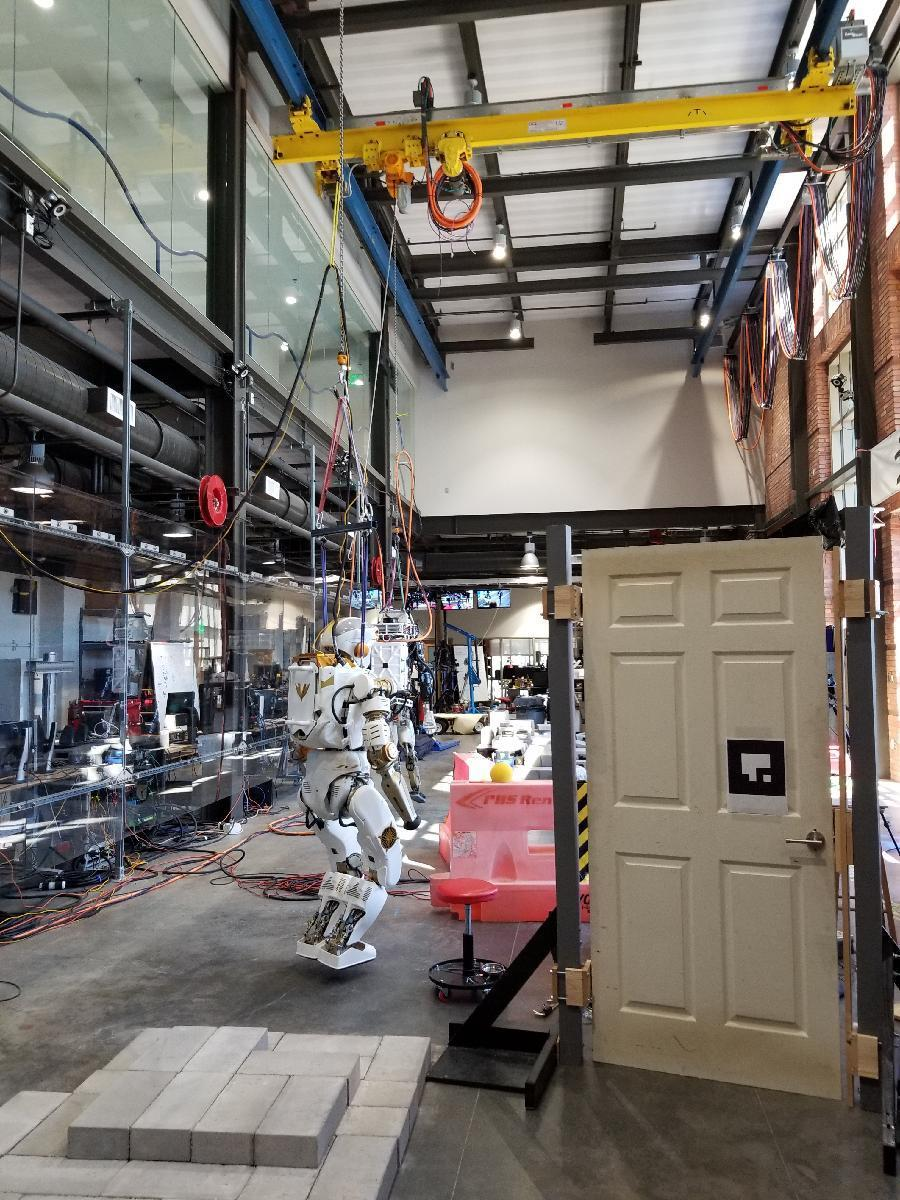door: (579, 546, 848, 1084)
handle: (784, 831, 828, 853)
